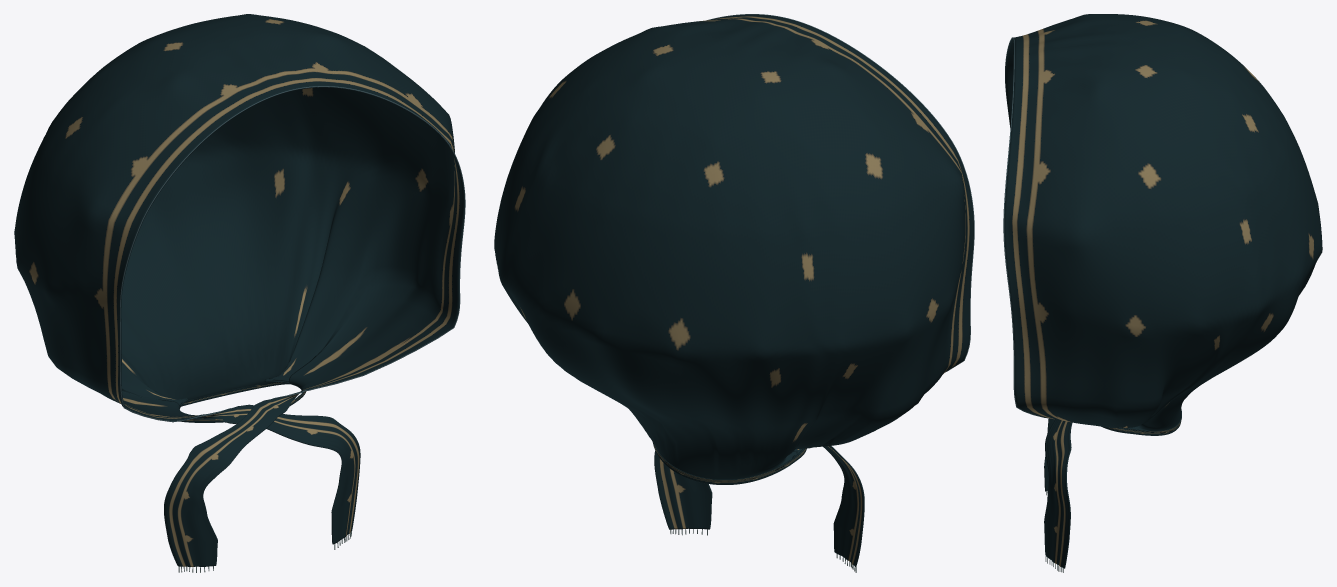
File: Masculine-locs-sweatshirt-pashmina249-headgear.glb
The picture shows the model from 3 angles, left to right: view 1: azimuth 30°, elevation 25°; view 2: azimuth 150°, elevation 25°; view 3: azimuth 270°, elevation 25°; orthographic projection. The views are drawn at different scales.
Visible parts, largest first — view 1: 226 headgear / Headwear / continuous woven pashmina239, 226 headgear / Headwear / face edge239; view 2: 226 headgear / Headwear / continuous woven pashmina239, 226 headgear / Headwear / face edge239; view 3: 226 headgear / Headwear / continuous woven pashmina239, 226 headgear / Headwear / face edge239.
Boxes of the visible parts, box(x1,y1,x2,y2) form: 226 headgear / Headwear / continuous woven pashmina239: box(14, 14, 464, 566); 226 headgear / Headwear / face edge239: box(120, 86, 465, 422); 226 headgear / Headwear / continuous woven pashmina239: box(494, 14, 973, 566); 226 headgear / Headwear / face edge239: box(707, 14, 974, 372); 226 headgear / Headwear / continuous woven pashmina239: box(1004, 14, 1322, 568); 226 headgear / Headwear / face edge239: box(1003, 37, 1047, 418).
Size of the model in its own units: 1.15 by 1.4 by 0.8232.
3 materials, 1 textured.
